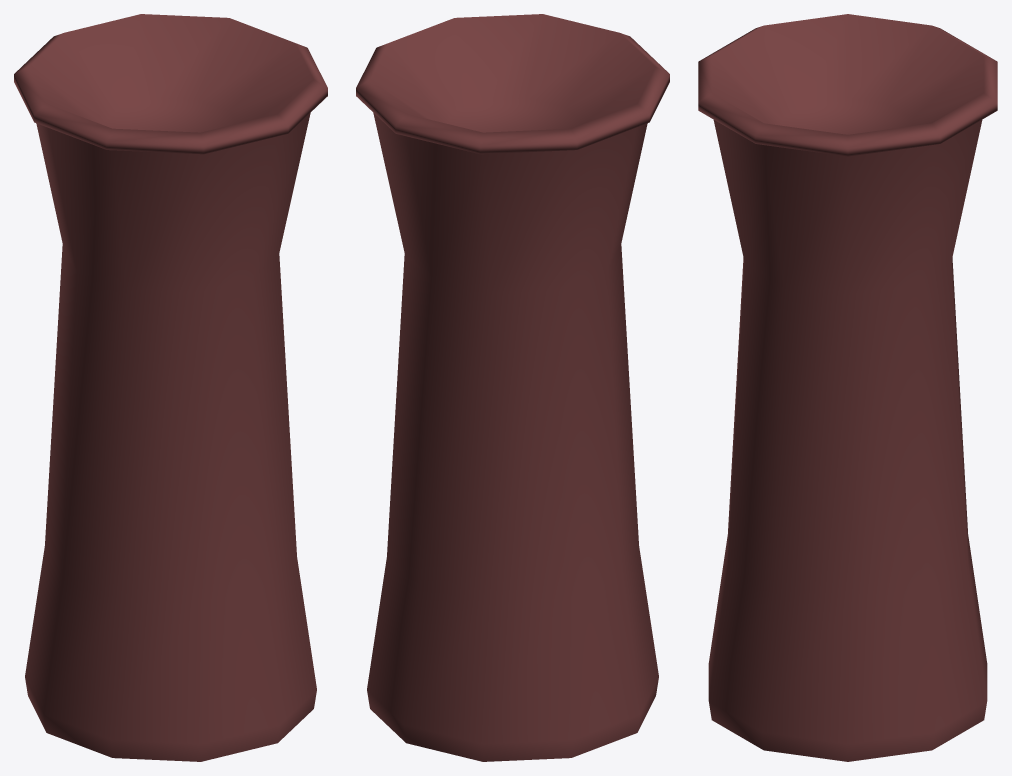
File: Vase_1.fbx
3 renders of one model, left to right at view 1: azimuth 30°, elevation 25°; view 2: azimuth 150°, elevation 25°; view 3: azimuth 270°, elevation 25°, orthographic.
Parts seen in each view (by area): view 1: Vase2; view 2: Vase2; view 3: Vase2.
Part boxes in pixels (left/top/right/bottom): Vase2: left=14, top=14, right=327, bottom=761; Vase2: left=356, top=14, right=669, bottom=761; Vase2: left=698, top=14, right=997, bottom=761.
Size of the model in its own units: 2.46 by 5.42 by 2.34.
